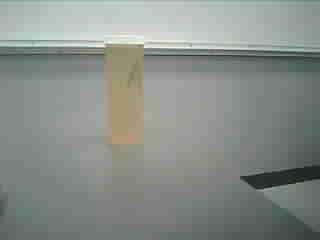Bottle A: (97, 26, 158, 159)
